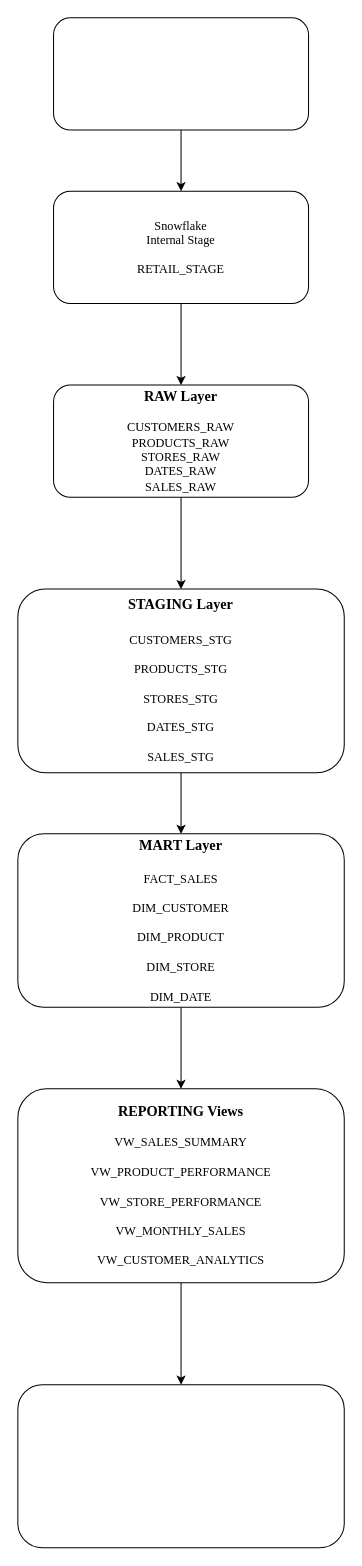
Some shapes in this 362 by 1566 pixel diagram are drawn without their labels. The centre of each missing label's shape, as x and y in pixels:
CSV Files Customers Products Stores SalesDates: (181,73)
Power BI Dashboard KPIs Charts Slicers Business Insights: (180,1466)
